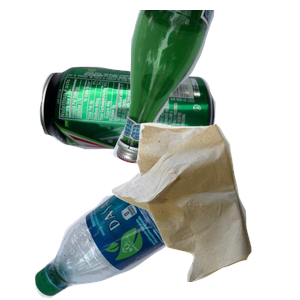glass: (109, 10, 300, 167)
metal: (37, 64, 245, 214)
plastic: (32, 154, 242, 300)
trash: (109, 120, 300, 300)
